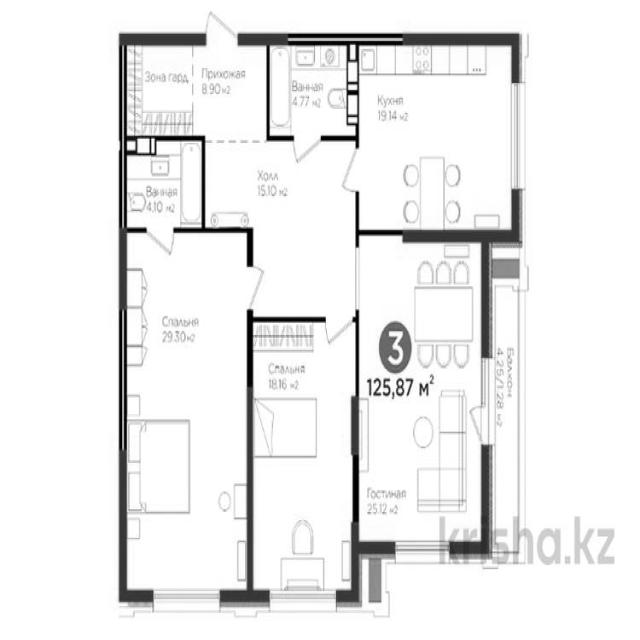balcony: (486, 237, 524, 563)
bathroom: (266, 33, 358, 139), (122, 142, 204, 226)
hallway: (206, 142, 355, 317), (194, 37, 267, 139)
kitchen: (356, 37, 520, 231)
living_room: (121, 227, 247, 594), (358, 233, 486, 547), (250, 319, 354, 601)
other: (123, 39, 195, 137)
